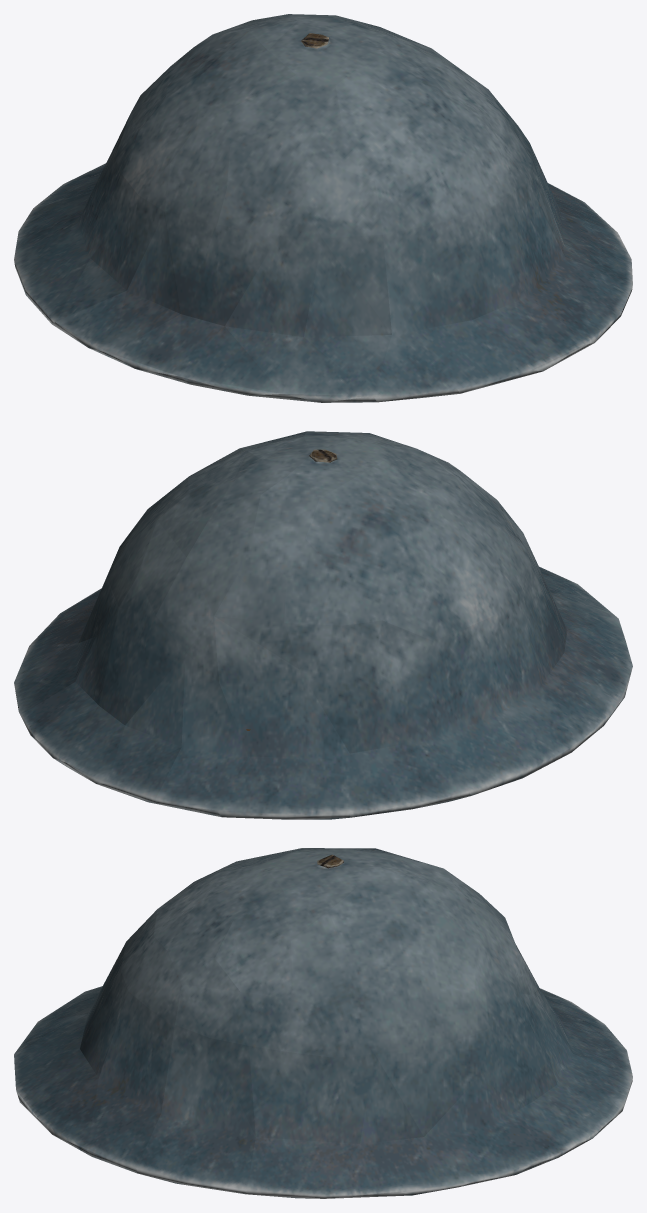
The model's file is BrodieHelmet_Ground.fbx.
The picture shows the model from 3 angles, top to bottom: view 1: azimuth 30°, elevation 25°; view 2: azimuth 150°, elevation 25°; view 3: azimuth 270°, elevation 25°; orthographic projection. The views are drawn at different scales.
Visible parts, largest first — view 1: BrodieHelmet; view 2: BrodieHelmet; view 3: BrodieHelmet.
Boxes of the visible parts, box(x1,y1,x2,y2) form: BrodieHelmet: box(14, 14, 632, 402); BrodieHelmet: box(14, 431, 632, 819); BrodieHelmet: box(14, 848, 632, 1198).
Size of the model in its own units: 0.1797 by 0.0779 by 0.1959.
